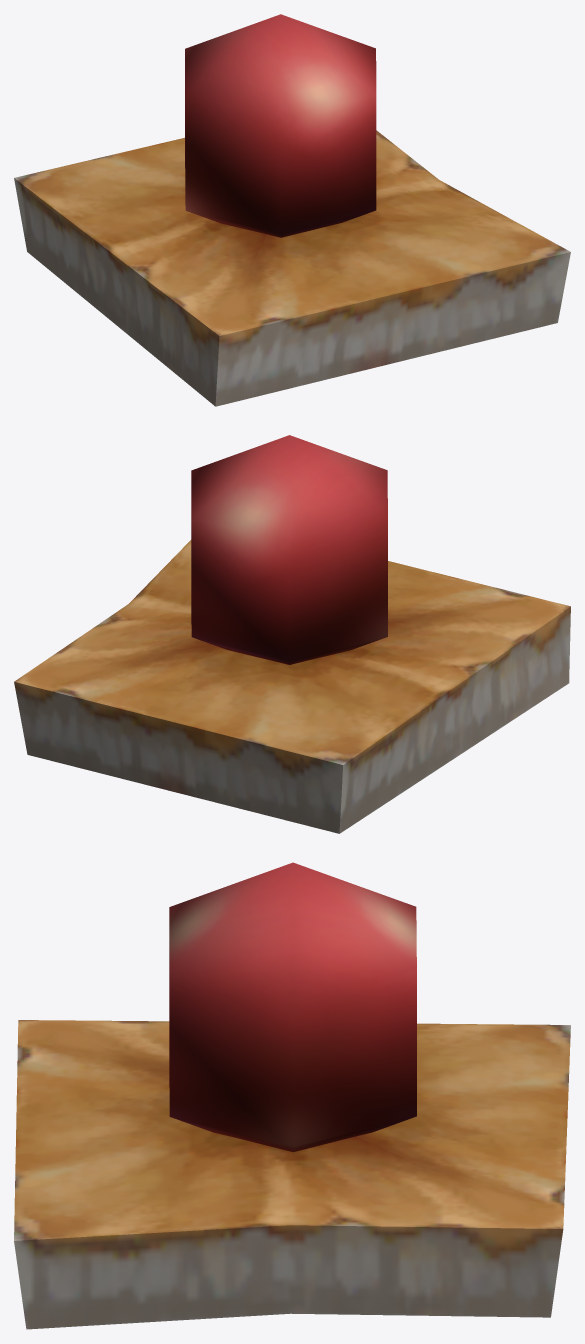
The model's file is Di_DanYao_1.FBX.
The picture shows the model from 3 angles, top to bottom: view 1: azimuth 30°, elevation 25°; view 2: azimuth 150°, elevation 25°; view 3: azimuth 270°, elevation 25°; orthographic projection. The views are drawn at different scales.
Visible parts, largest first — view 1: Di_DanYao_1; view 2: Di_DanYao_1; view 3: Di_DanYao_1.
Boxes of the visible parts, x1,y1,x2,y2 form: Di_DanYao_1: (14,14,570,406); Di_DanYao_1: (14,435,570,833); Di_DanYao_1: (14,862,570,1329).
Size of the model in its own units: 18.34 by 13.78 by 19.48.
